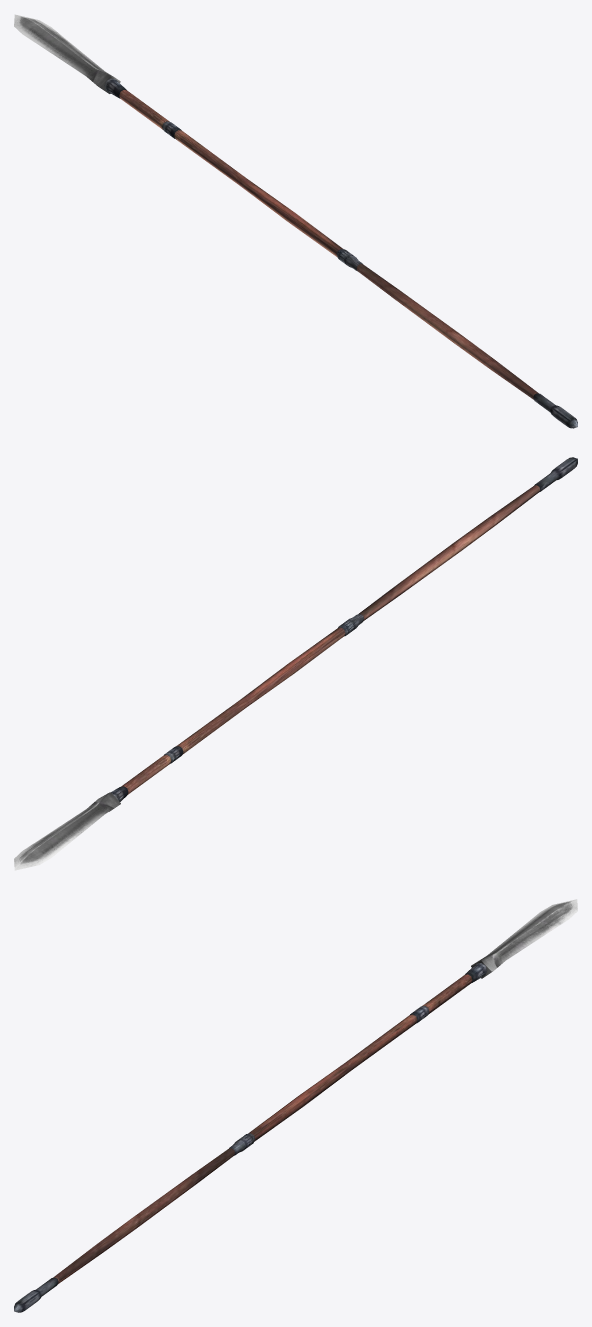
Rendered from spear_aburahinoki_aburahinoki1.glb.
The picture shows the model from 3 angles, top to bottom: view 1: azimuth 30°, elevation 25°; view 2: azimuth 150°, elevation 25°; view 3: azimuth 330°, elevation 25°; orthographic projection.
Size of the model in its own units: 0.0928 by 0.0586 by 3.11.
1 material, 1 textured.
